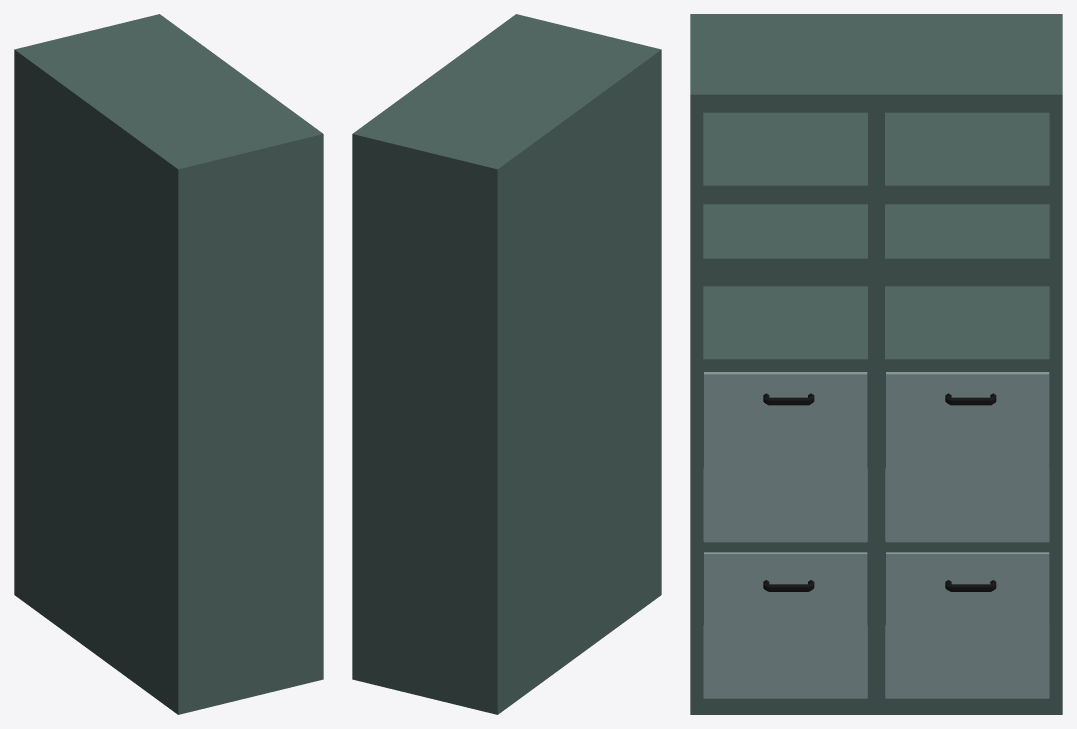
Rendered from StBox1.fbx.
3 renders of one model, left to right at view 1: azimuth 30°, elevation 25°; view 2: azimuth 150°, elevation 25°; view 3: azimuth 270°, elevation 25°, orthographic. The views are drawn at different scales.
Parts seen in each view (by area): view 1: BASE; view 2: BASE; view 3: BASE, D7, D8, D9, D10.
Boxes of the visible parts, <box> form: BASE: <box>14,14,323,714</box>; BASE: <box>352,14,661,714</box>; BASE: <box>690,14,1062,714</box>; D7: <box>886,372,1049,542</box>; D8: <box>704,372,867,542</box>; D9: <box>886,552,1049,698</box>; D10: <box>704,552,867,698</box>.
Size of the model in its own units: 1.07 by 3.59 by 1.95.
